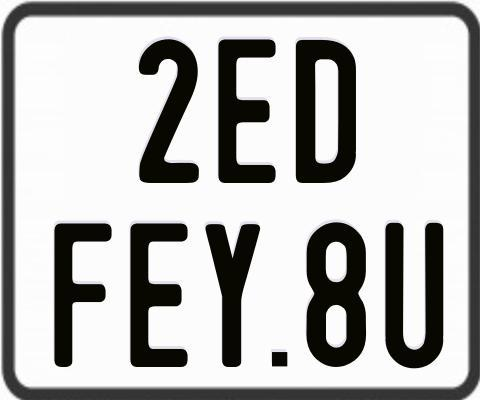2: (138, 39, 199, 189)
8: (305, 220, 371, 369)
D: (293, 40, 353, 185)
E: (217, 38, 280, 188), (127, 222, 188, 366)
F: (53, 220, 116, 365)
U: (385, 220, 445, 365)
Y: (203, 222, 259, 369)
